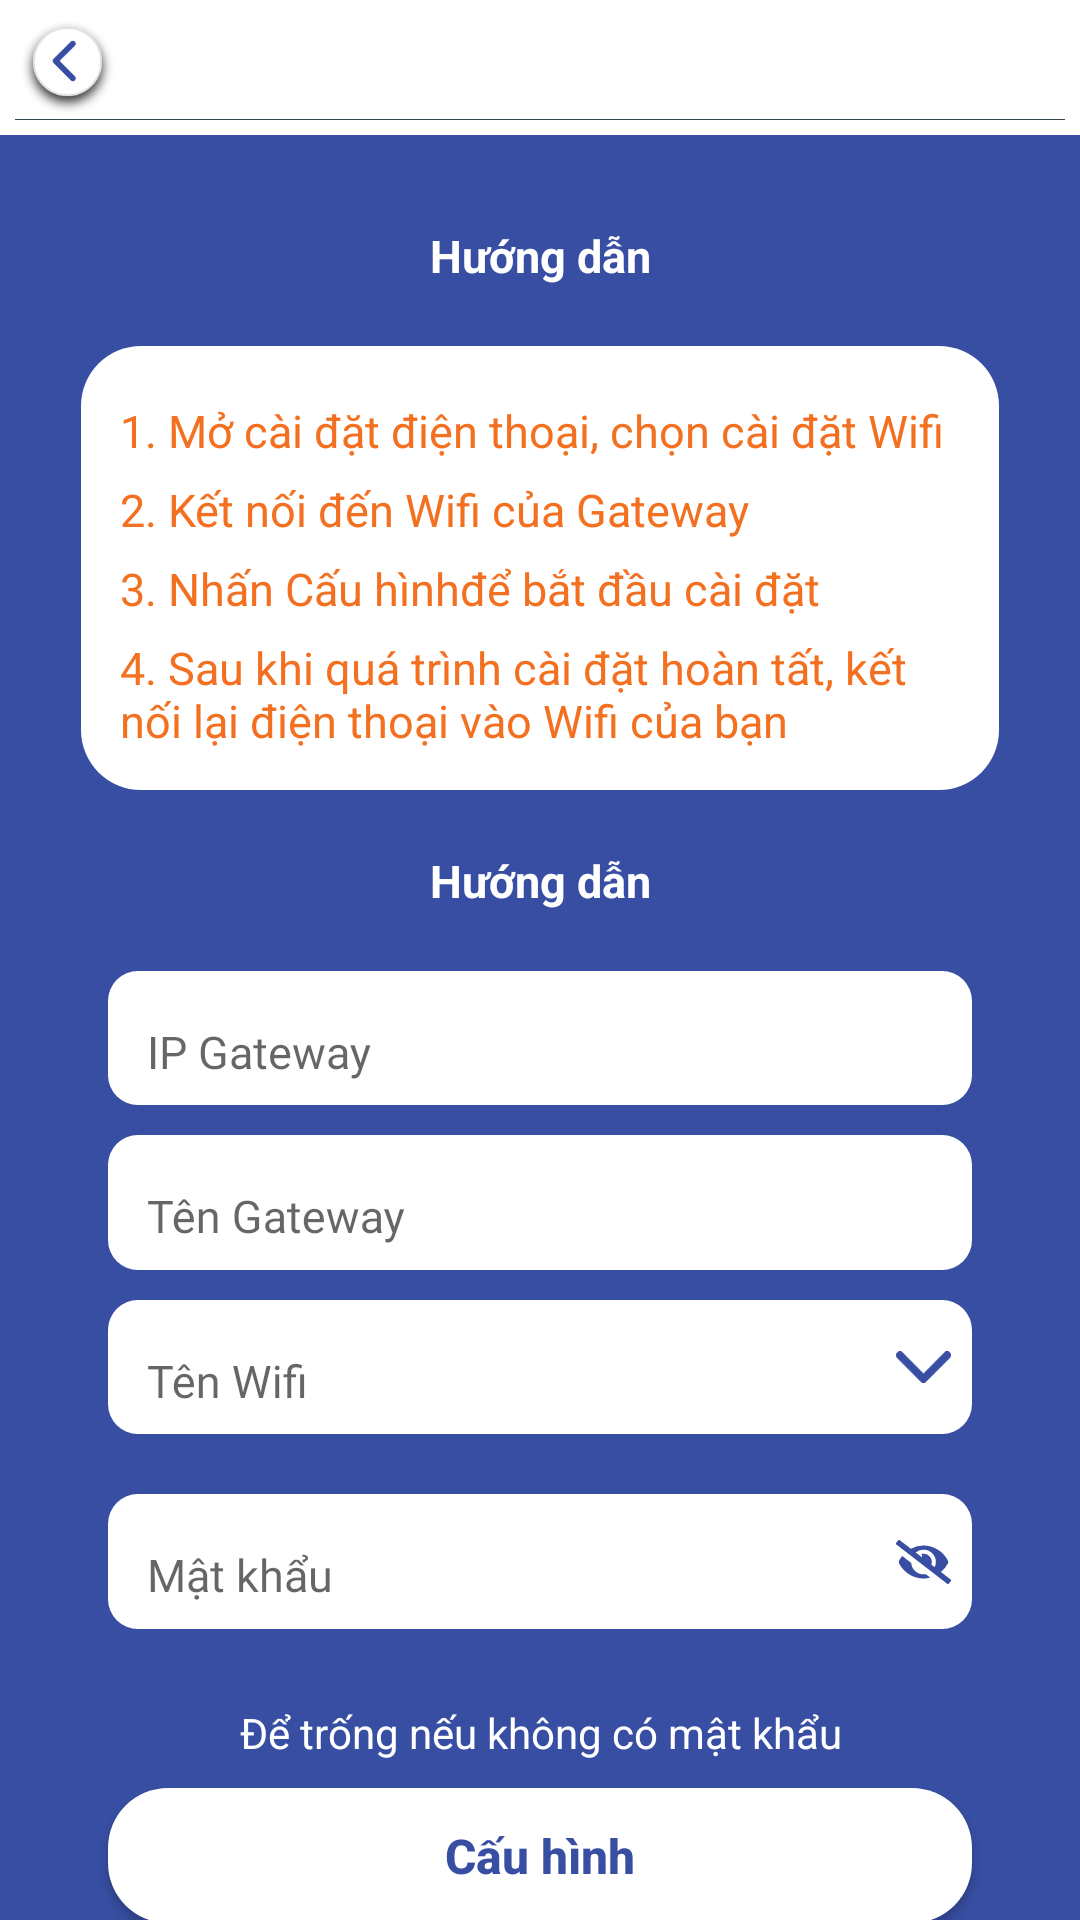

Where icons sit on this 1080px×1920px app screen, as (x1, y1, x2, y2):
arrow down: (896, 1351, 951, 1383)
back circle: (27, 27, 108, 108)
eye: (896, 1540, 951, 1584)
